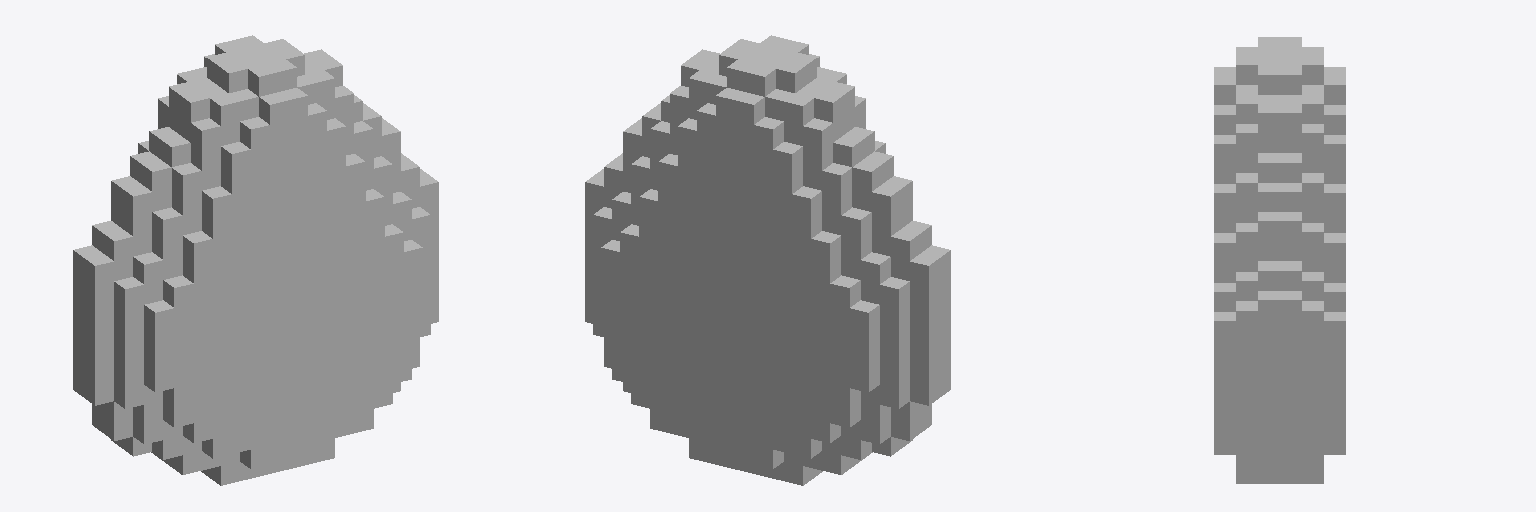
Rendered from water.obj.
The picture shows the model from 3 angles: view 1: azimuth 30°, elevation 25°; view 2: azimuth 150°, elevation 25°; view 3: azimuth 270°, elevation 25°; orthographic projection.
Visible parts, largest first — view 1: object 1; view 2: object 1; view 3: object 1.
Part boxes in pixels (x1,y1,x2,y2): object 1: (73, 35, 438, 485); object 1: (585, 35, 950, 485); object 1: (1214, 37, 1345, 483).
Size of the model in its own units: 1.8 by 2 by 0.6.